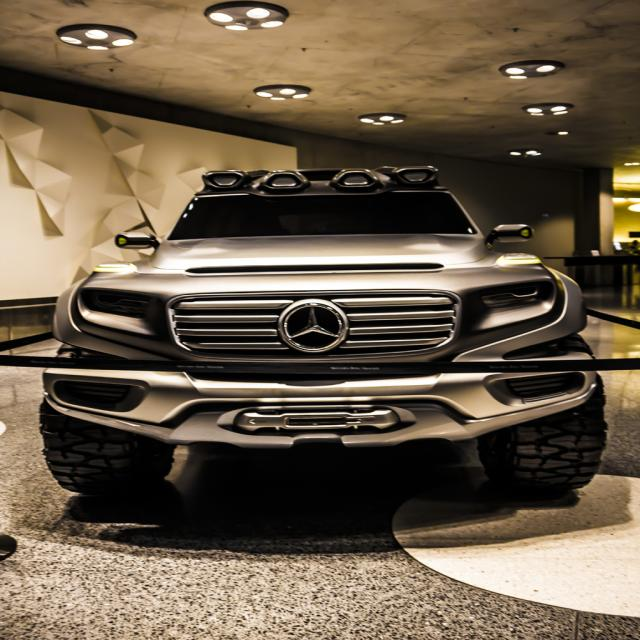car: (38, 163, 608, 489)
